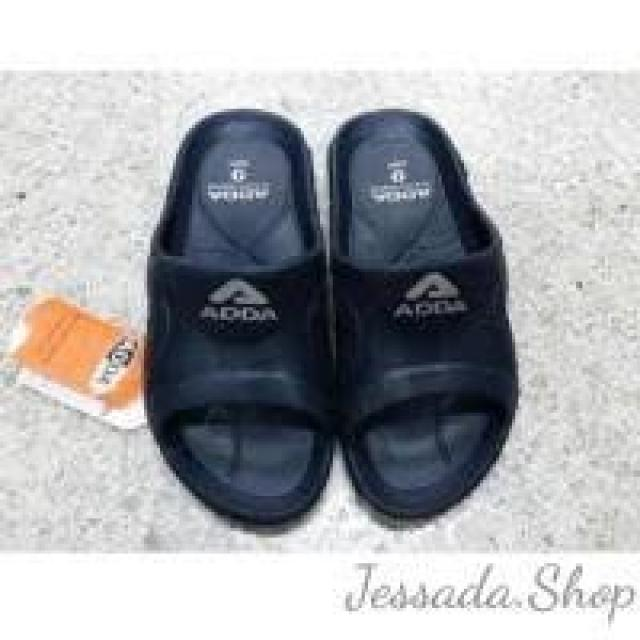shoe: (145, 104, 520, 528), (321, 108, 537, 510), (140, 105, 332, 509)
